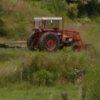Tractor: (22, 9, 85, 60)
